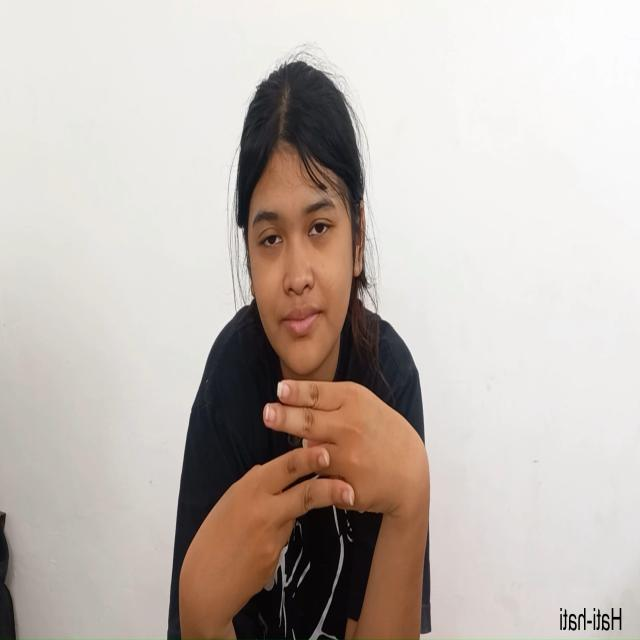Hati-hati -BISINDO-: (176, 379, 432, 627)
